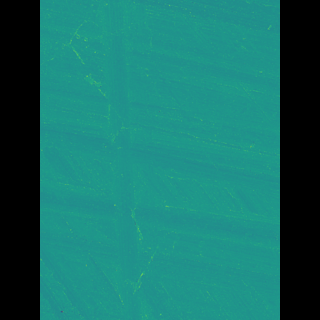Loch: (109, 0, 147, 320), (168, 0, 248, 138)
